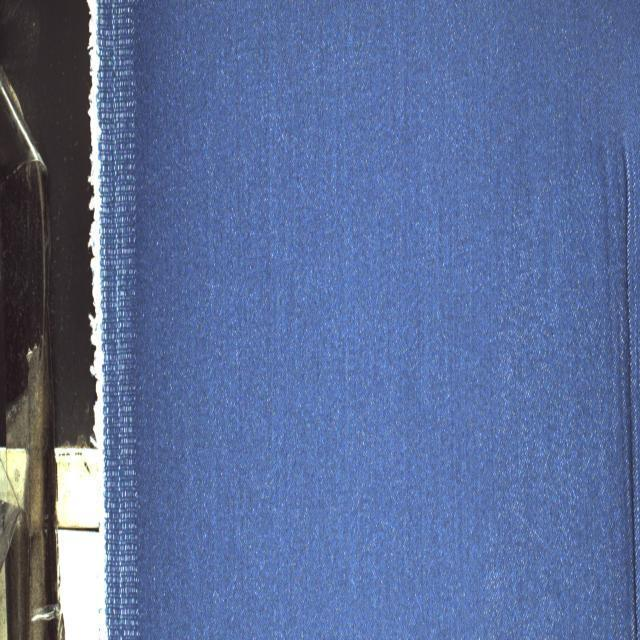broken_yarn: (602, 116, 640, 639)
